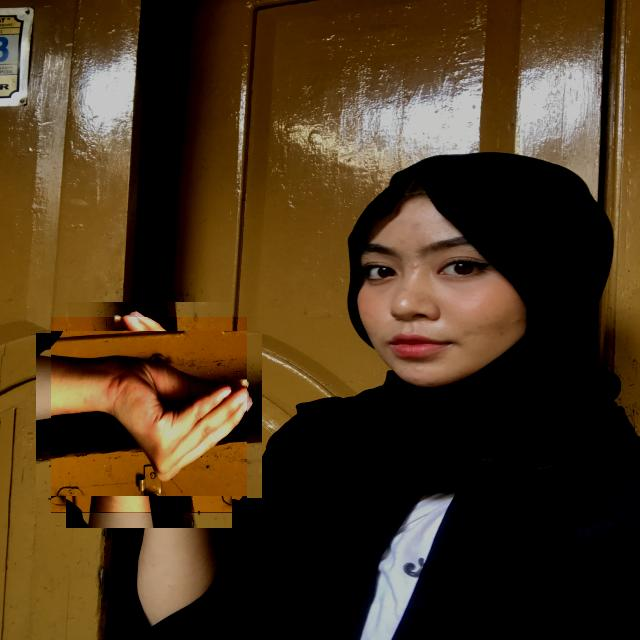kapan: (51, 317, 247, 514)
